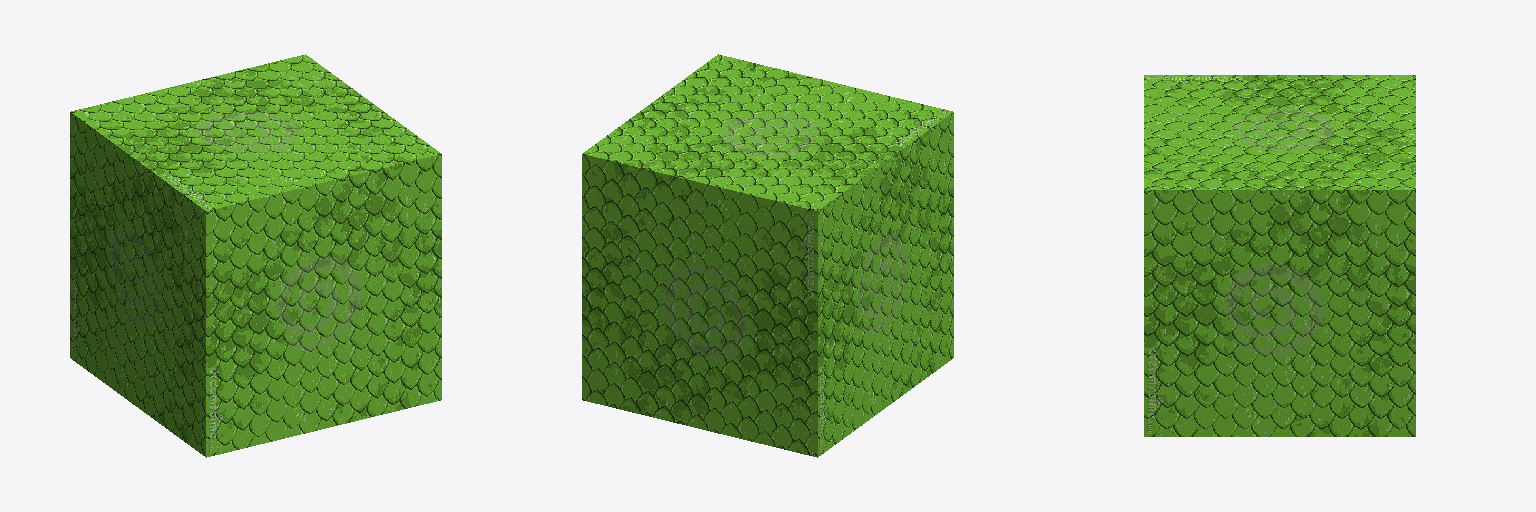
3 renders of one model, left to right at view 1: azimuth 30°, elevation 25°; view 2: azimuth 150°, elevation 25°; view 3: azimuth 270°, elevation 25°, orthographic.
Parts seen in each view (by area): view 1: Cube; view 2: Cube; view 3: Cube.
Part boxes in pixels (x1,y1,x2,y2): Cube: (70, 54, 441, 457); Cube: (582, 54, 953, 457); Cube: (1144, 75, 1415, 436).
Bounding box in the file's own units: 2 × 2 × 2.
1 materials, 1 textured.